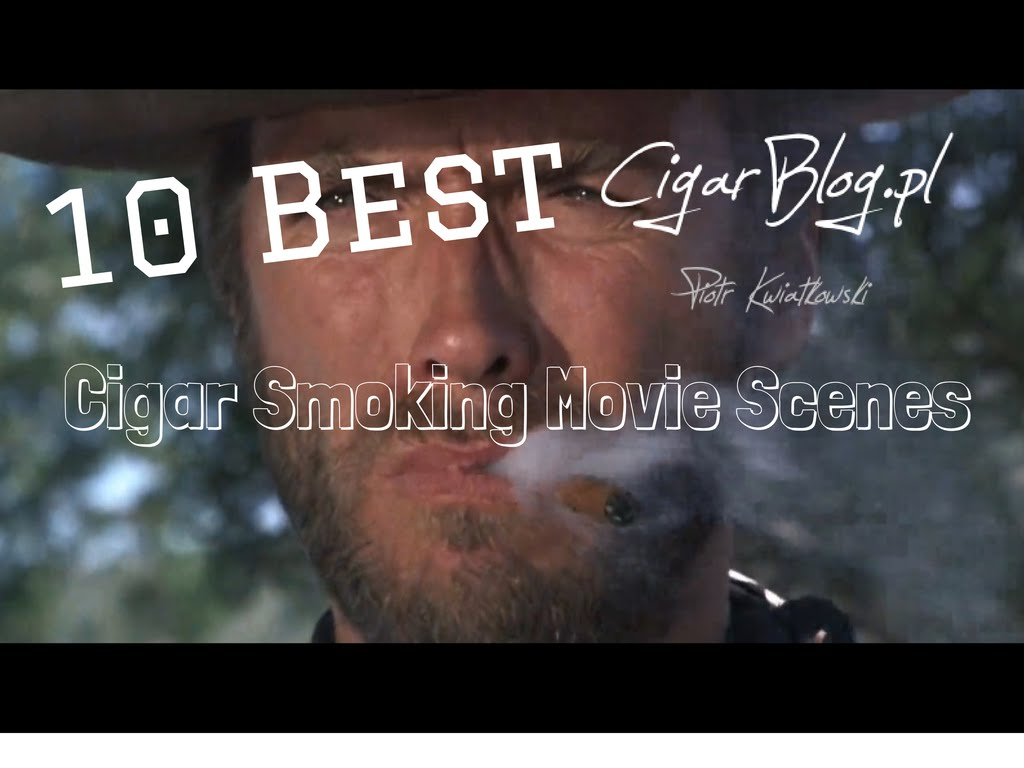cigarette: (549, 471, 640, 529)
